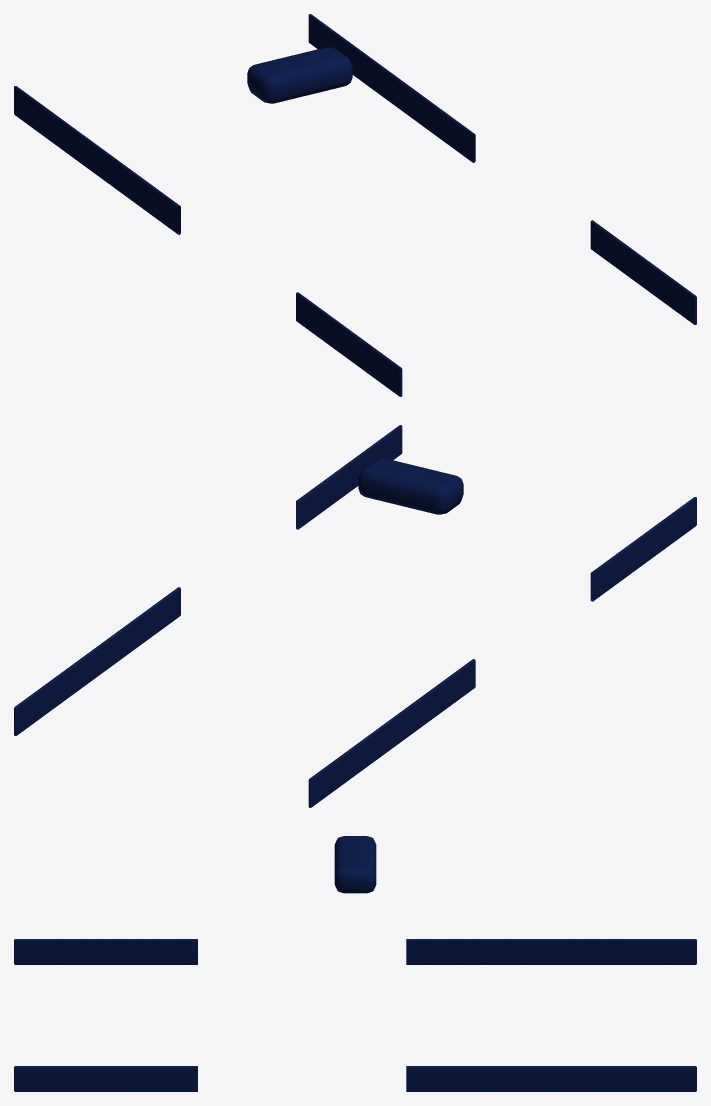
3 renders of one model, top to bottom at view 1: azimuth 30°, elevation 25°; view 2: azimuth 150°, elevation 25°; view 3: azimuth 270°, elevation 25°, orthographic. The views are drawn at different scales.
Size of the model in its own units: 1.82 by 1.01 by 4.1.
Materials: 1 (1 with a texture image).
